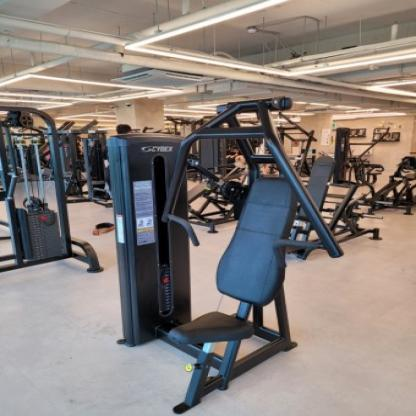Chest Press machine: (88, 93, 357, 416)
